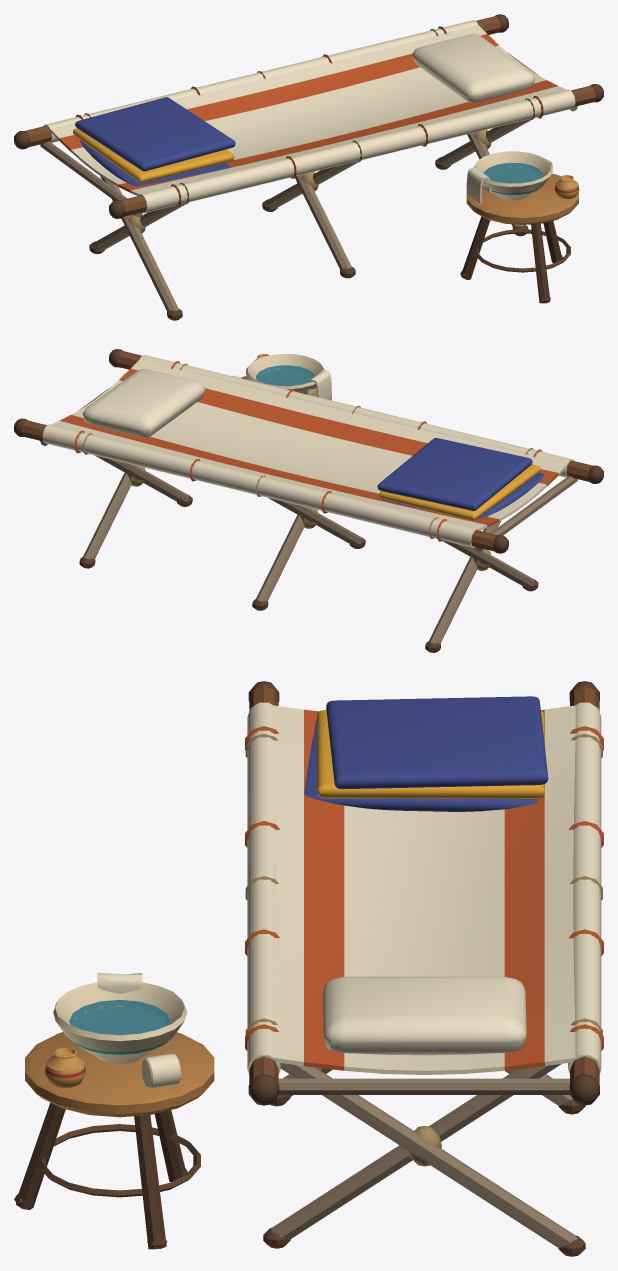
File: deco_healer_cot.fbx
3 views of the same model, one above another, from view 1: azimuth 30°, elevation 25°; view 2: azimuth 150°, elevation 25°; view 3: azimuth 270°, elevation 25° (orthographic). The views are drawn at different scales.
Visible parts, largest first — view 1: HealerCot_Sling, HealerCot_Bedding, HealerCot_Cot, HealerCot_Stool, HealerCot_Bowl; view 2: HealerCot_Sling, HealerCot_Bedding, HealerCot_Cot, HealerCot_Bowl; view 3: HealerCot_Sling, HealerCot_Bedding, HealerCot_Cot, HealerCot_Stool, HealerCot_Bowl.
Boxes of the visible parts, x1=… form: HealerCot_Sling: x1=43, y1=20, x2=575, y2=213; HealerCot_Bedding: x1=73, y1=33, x2=534, y2=186; HealerCot_Cot: x1=14, y1=14, x2=603, y2=320; HealerCot_Stool: x1=460, y1=173, x2=578, y2=303; HealerCot_Bowl: x1=466, y1=151, x2=579, y2=203; HealerCot_Sling: x1=42, y1=354, x2=574, y2=547; HealerCot_Bedding: x1=82, y1=369, x2=544, y2=520; HealerCot_Cot: x1=14, y1=349, x2=603, y2=652; HealerCot_Bowl: x1=232, y1=354, x2=331, y2=399; HealerCot_Sling: x1=245, y1=702, x2=603, y2=1074; HealerCot_Bedding: x1=304, y1=696, x2=548, y2=1055; HealerCot_Cot: x1=245, y1=681, x2=602, y2=1256; HealerCot_Stool: x1=14, y1=1032, x2=214, y2=1249; HealerCot_Bowl: x1=44, y1=972, x2=187, y2=1088.
Size of the model in its own units: 300 by 86.78 by 184.
